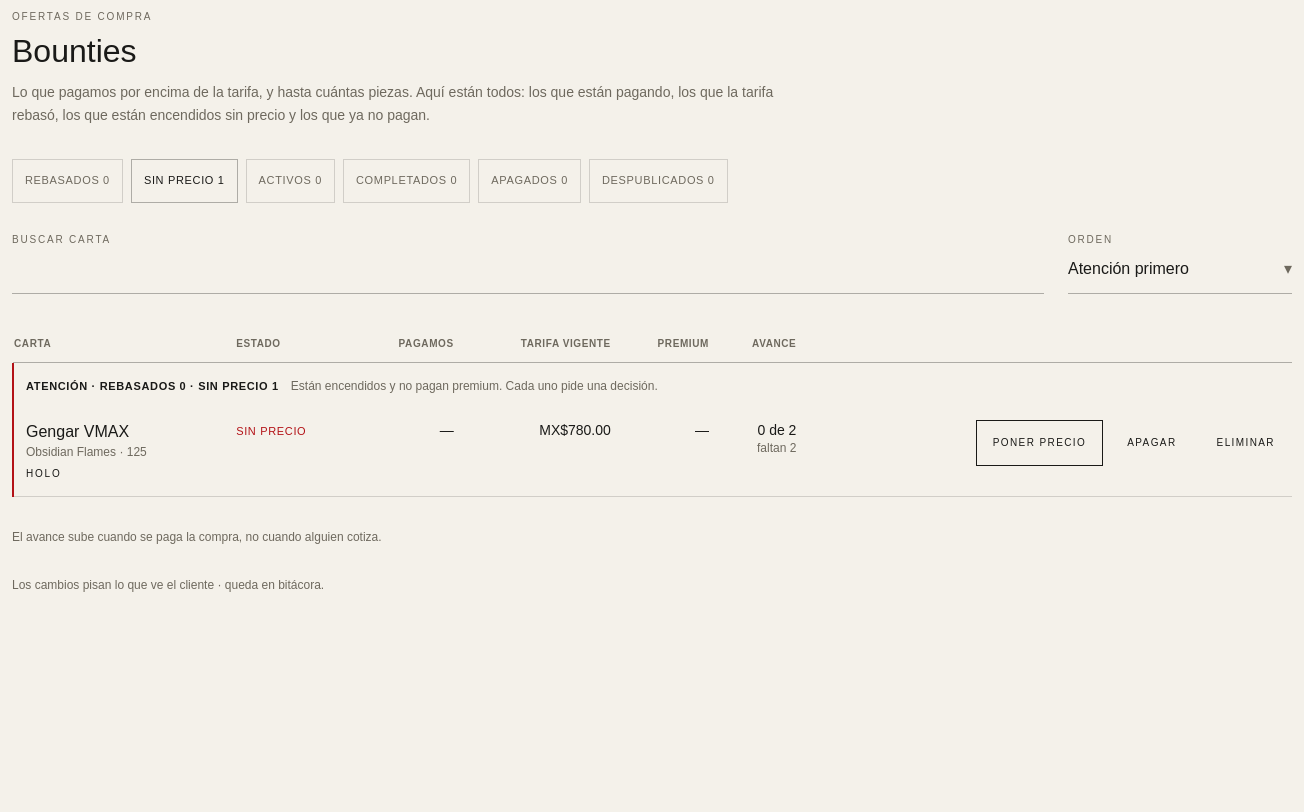
Test case: ⭐ la fila `invalida`: encendida, sin precio, y con dos puertas › ⛔ el campo de precio NO se prellena con la tarifa vigente (§28.13 nº13)
This screenshot has width=1304, height=812.
Click the button "Poner precio": (1039, 443) 976,420 -> 1103,466
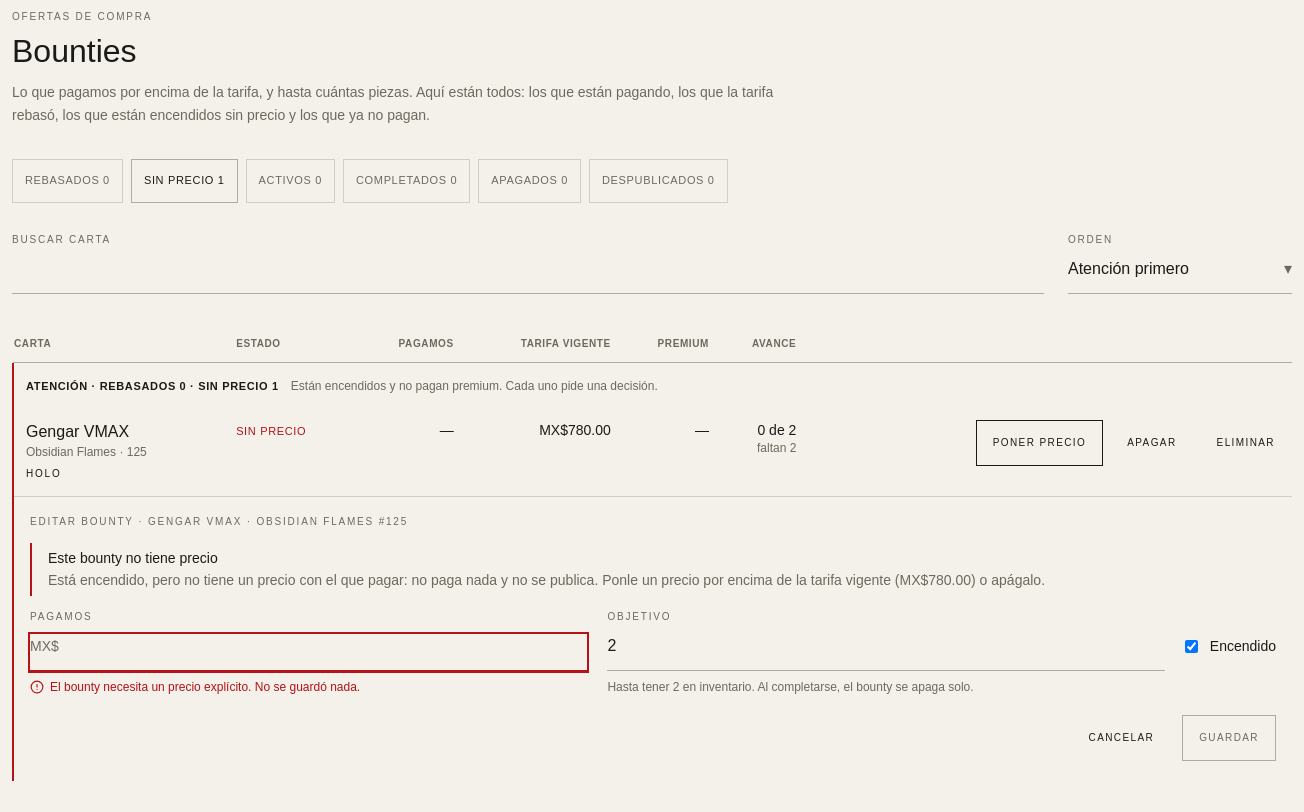
Check: the field labelled "Pagamos" is empty, box 67,634 -> 587,658
Check: the text "Este bounty no tiene precio" is shown, box 48,550 -> 218,566
